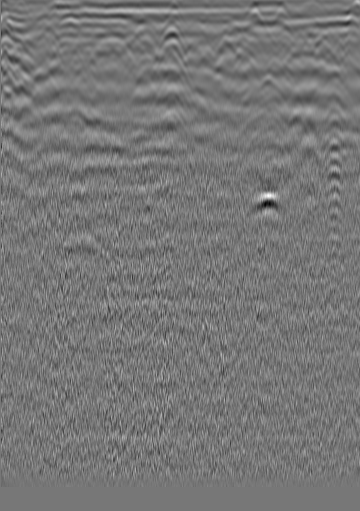가스: (245, 189, 285, 220)
상수: (0, 23, 20, 43)
오수: (307, 32, 327, 52)
우수: (164, 24, 184, 44)
